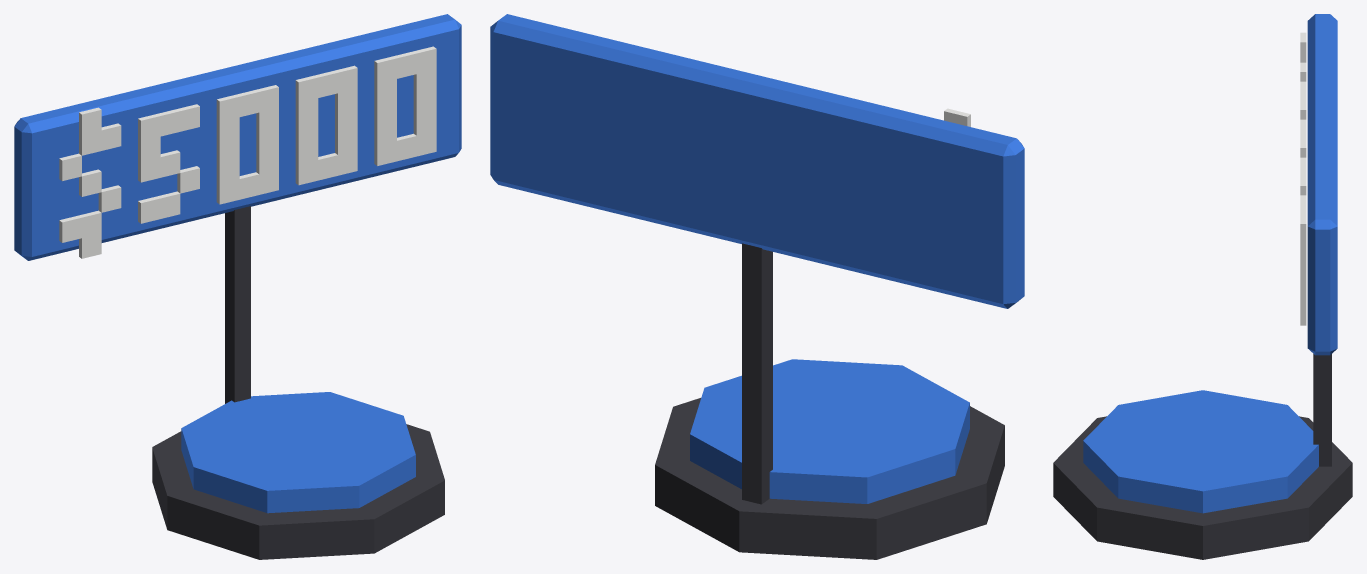
Rendered from BuyButtonExpensive.fbx.
The picture shows the model from 3 angles, left to right: view 1: azimuth 30°, elevation 25°; view 2: azimuth 150°, elevation 25°; view 3: azimuth 270°, elevation 25°; orthographic projection. The views are drawn at different scales.
Visible parts, largest first — view 1: BuyButtonExpensive, BuyButtonExpensive_Button; view 2: BuyButtonExpensive, BuyButtonExpensive_Button; view 3: BuyButtonExpensive, BuyButtonExpensive_Button.
Part boxes in pixels (left/top/right/bottom): BuyButtonExpensive: left=14, top=14, right=461, bottom=559; BuyButtonExpensive_Button: left=181, top=392, right=415, bottom=513; BuyButtonExpensive: left=490, top=14, right=1024, bottom=559; BuyButtonExpensive_Button: left=690, top=359, right=969, bottom=503; BuyButtonExpensive: left=1053, top=14, right=1352, bottom=559; BuyButtonExpensive_Button: left=1083, top=390, right=1318, bottom=513.
Size of the model in its own units: 6.7 by 5.65 by 4.
1 material, 1 textured.
